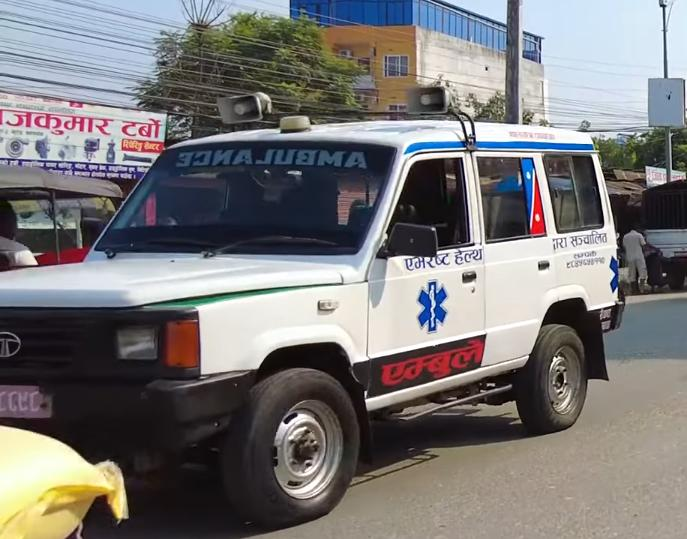ambulance: (1, 74, 635, 530)
